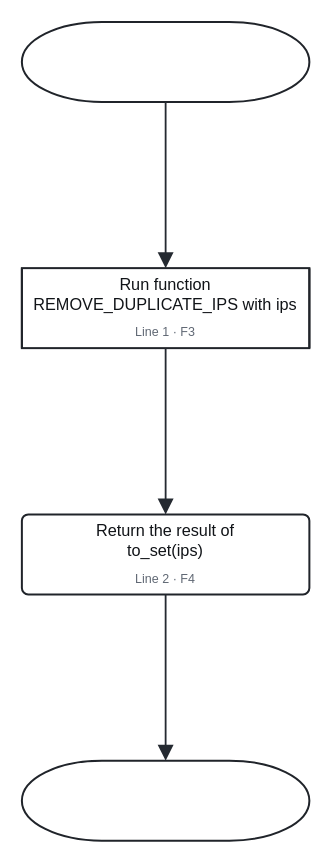
The diagram is 333 pixels wide and 864 high, and some of its shapes have lost their labels. The centre of each missing label's shape, as x and y in pixels:
"End Line 1 · F2" goes at pixel 165 800.
"Start Line 1 · F1" goes at pixel 165 61.
